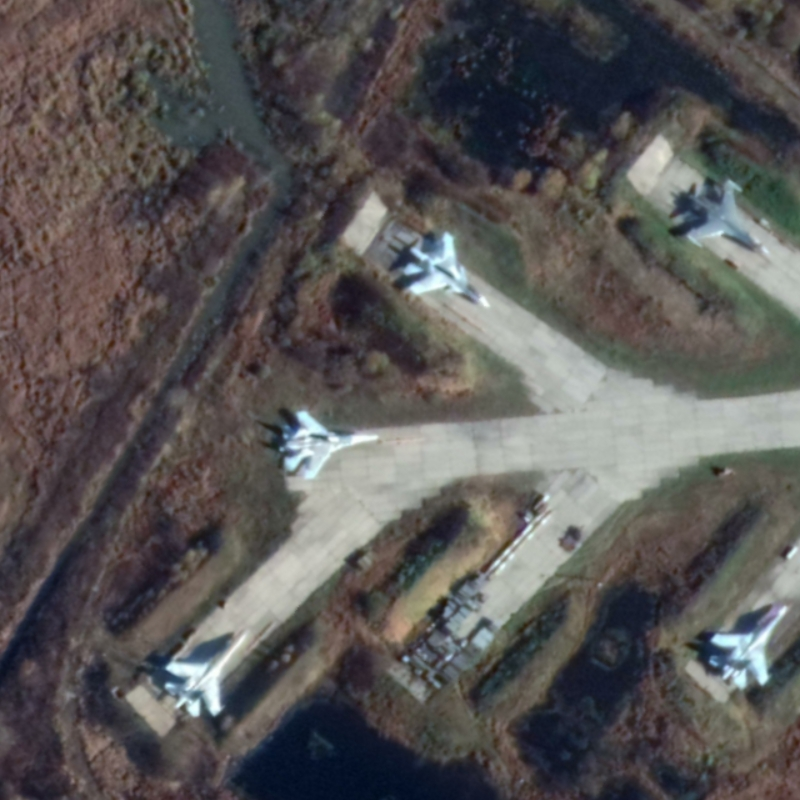A1: (161, 628, 250, 719), (706, 601, 790, 692), (277, 408, 381, 481), (684, 177, 774, 261)
A19: (401, 229, 493, 311)
